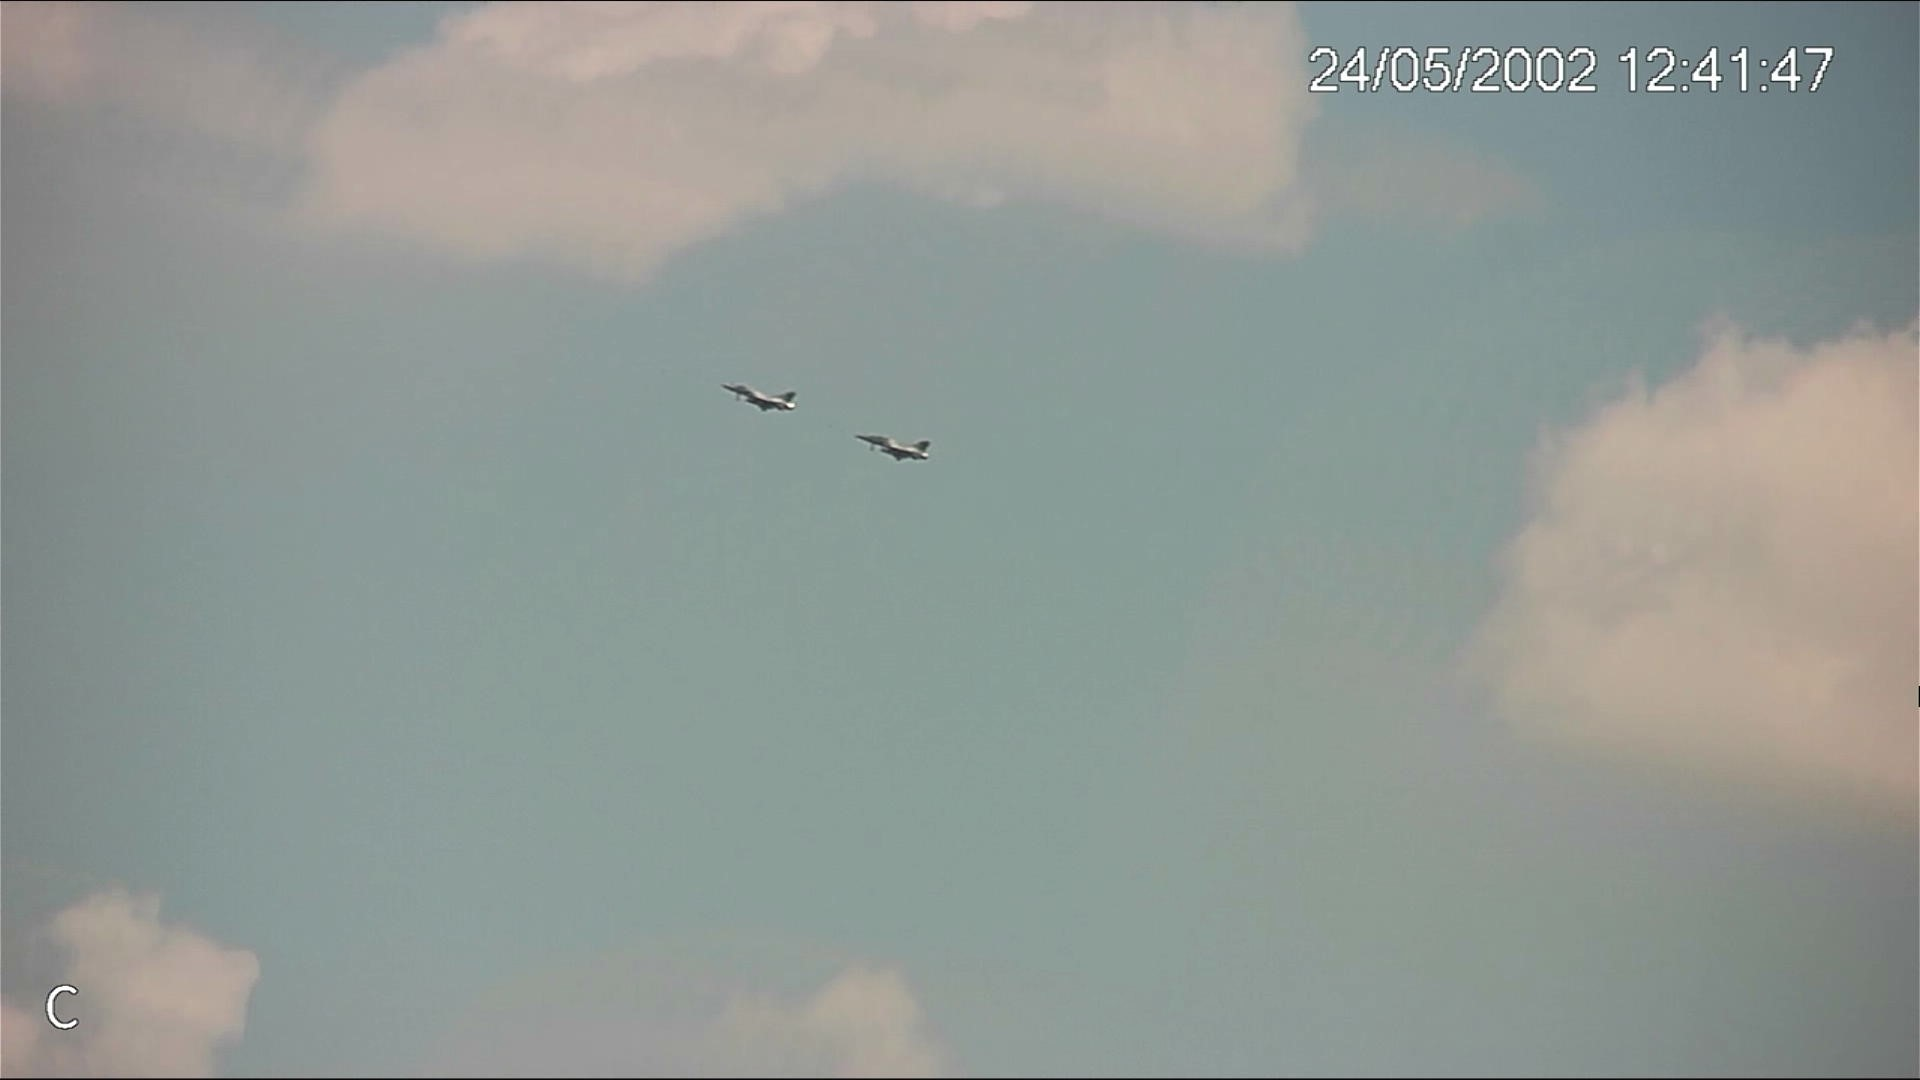SU_30: (856, 429, 932, 463), (719, 381, 800, 413)
